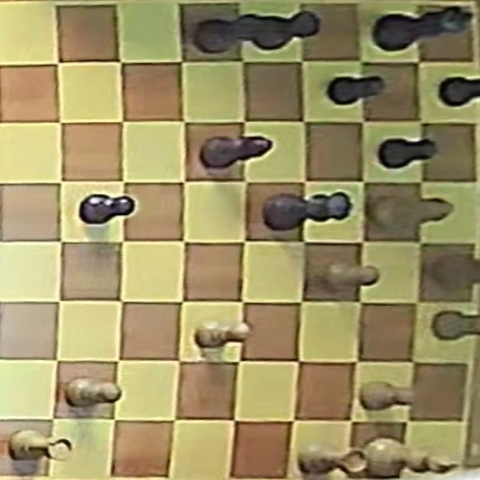black-bishop: (201, 136, 271, 169)
black-king: (374, 6, 473, 52)
black-pawn: (378, 137, 440, 169), (328, 75, 386, 105), (81, 194, 135, 224), (440, 75, 480, 107)
black-queen: (264, 192, 350, 230)
black-rook: (195, 13, 266, 54), (251, 9, 321, 49)
white-bishop: (368, 194, 453, 235)
white-king: (362, 439, 456, 476)
white-pawn: (65, 377, 121, 408), (196, 320, 251, 347), (362, 382, 413, 410), (434, 310, 480, 339), (327, 262, 379, 286)
white-queen: (434, 251, 480, 292)
white-rook: (298, 442, 365, 476), (9, 429, 72, 461)
